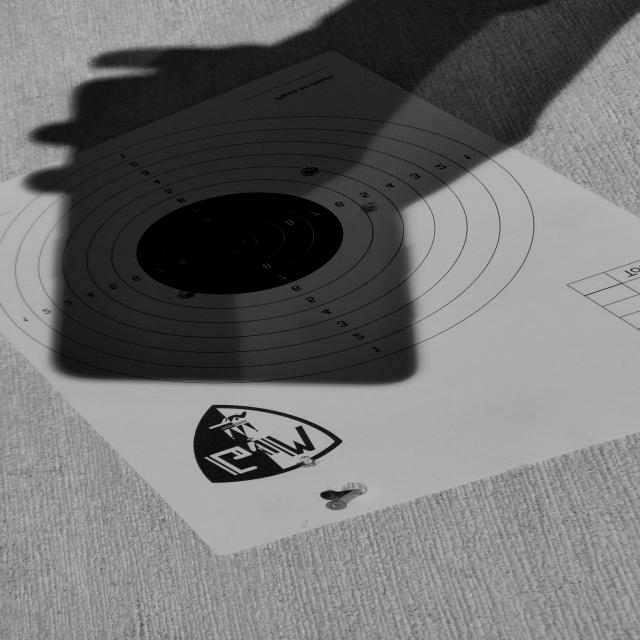0: (294, 456, 320, 468)
5: (299, 165, 322, 177), (359, 202, 379, 212)
7: (175, 288, 198, 300)
Target: (2, 114, 538, 382)
black_contour: (135, 192, 344, 295)
